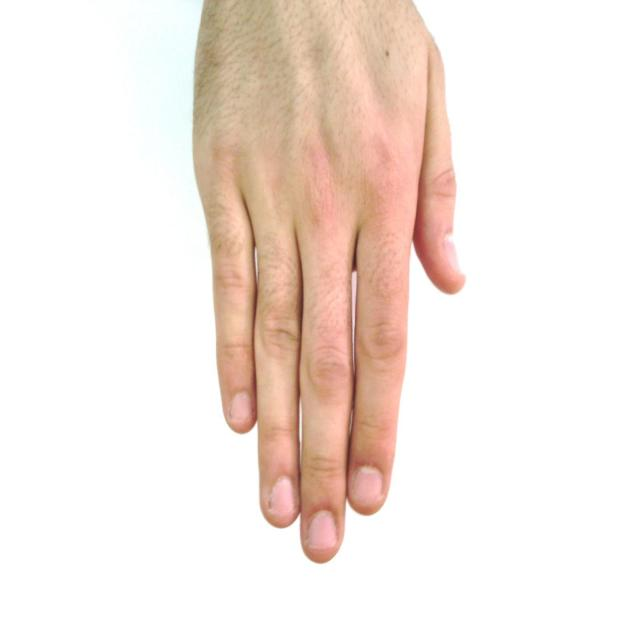others: (165, 0, 494, 573)
